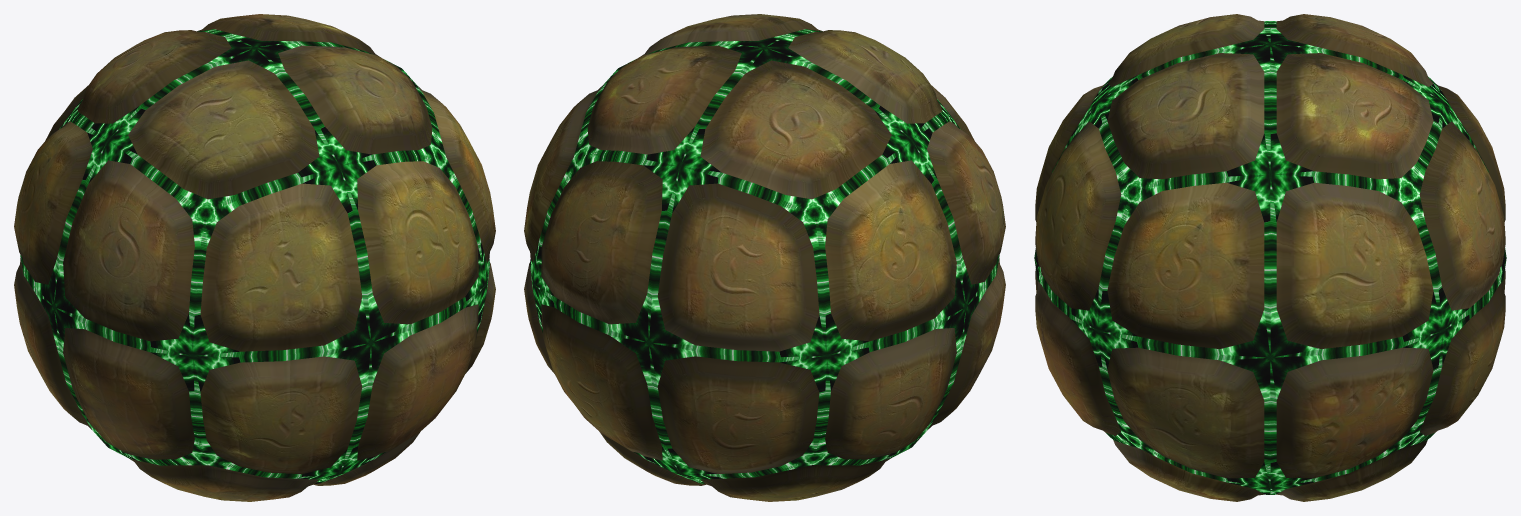
Rendered from carapace-d-un-dieu-ancien.glb.
The picture shows the model from 3 angles, left to right: view 1: azimuth 30°, elevation 25°; view 2: azimuth 150°, elevation 25°; view 3: azimuth 270°, elevation 25°; orthographic projection.
Parts seen in each view (by area): view 1: Shields, God; view 2: Shields, God; view 3: Shields, God.
Boxes of the visible parts, x1,y1,x2,y2 form: Shields: (14, 14, 495, 501); God: (20, 29, 489, 483); Shields: (524, 14, 1005, 501); God: (530, 29, 999, 483); Shields: (1035, 14, 1505, 501); God: (1034, 21, 1506, 494).
Bounding box in the file's own units: 1304 × 1304 × 1304.
2 materials, 2 textured.
